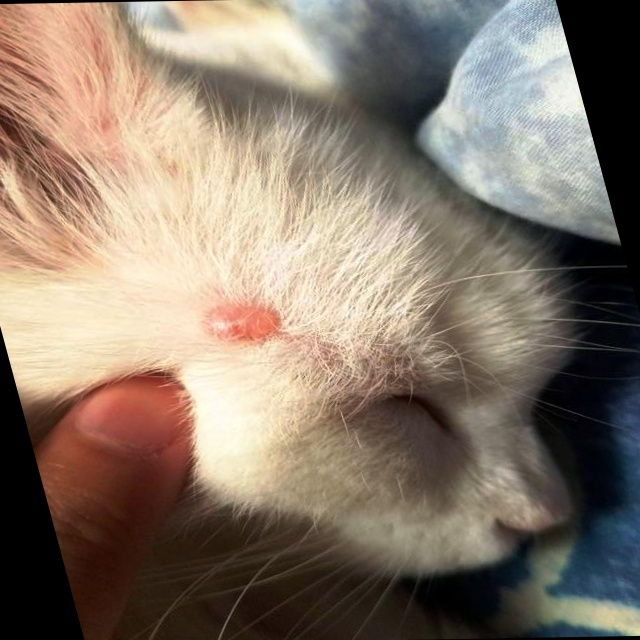lump_and_bump: (204, 304, 286, 343)
